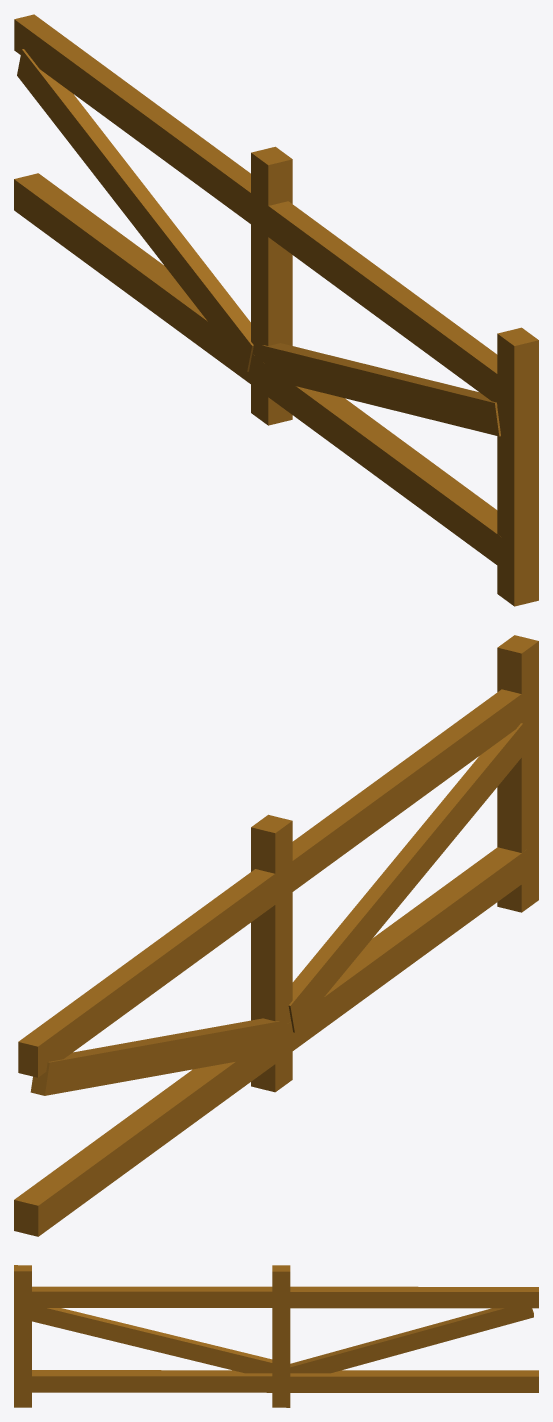
Rendered from Valla Madera.fbx.
3 renders of one model, top to bottom at view 1: azimuth 30°, elevation 25°; view 2: azimuth 150°, elevation 25°; view 3: azimuth 270°, elevation 25°, orthographic. The views are drawn at different scales.
Parts seen in each view (by area): view 1: Valla 2.005; view 2: Valla 2.005; view 3: Valla 2.005.
Part boxes in pixels (box(x1,y1,x2,y2)): Valla 2.005: box(14, 14, 538, 606); Valla 2.005: box(14, 635, 538, 1236); Valla 2.005: box(14, 1265, 538, 1407).
Bounding box in the file's own units: 14.75 × 133 × 464.
